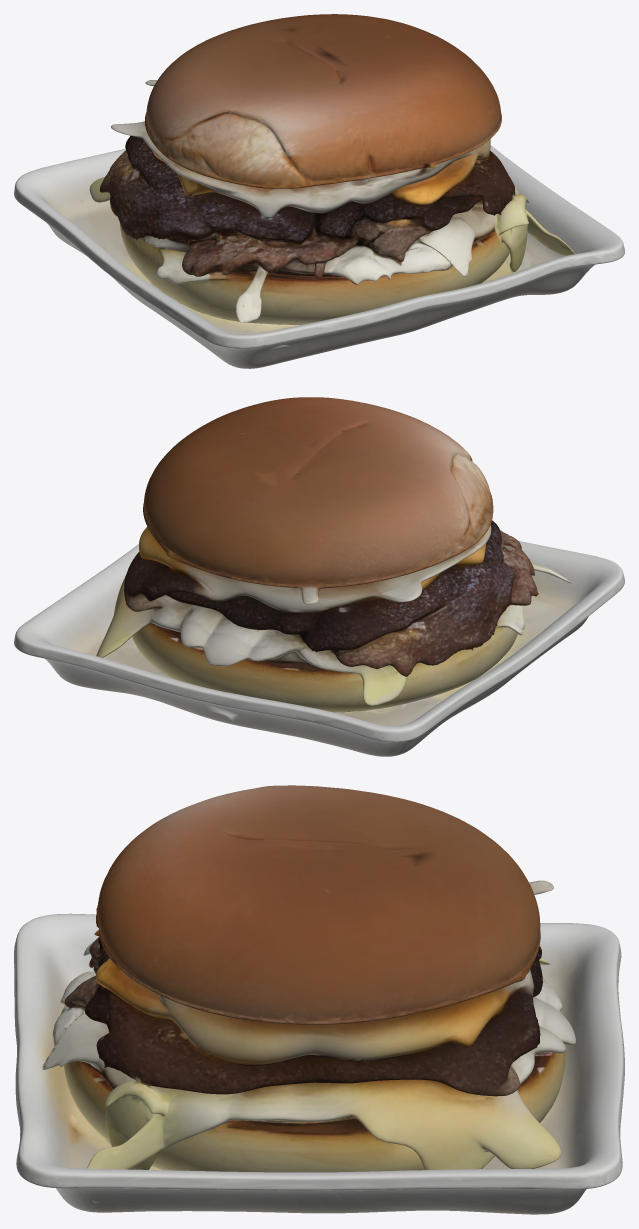
File: burger.glb
3 views of the same model, one above another, from view 1: azimuth 30°, elevation 25°; view 2: azimuth 150°, elevation 25°; view 3: azimuth 270°, elevation 25° (orthographic). The views are drawn at different scales.
Parts seen in each view (by area): view 1: node_0; view 2: node_0; view 3: node_0.
Boxes of the visible parts, left/top/right/bottom form: node_0: left=14, top=14, right=624, bottom=368; node_0: left=14, top=397, right=624, bottom=756; node_0: left=14, top=785, right=624, bottom=1214.
Bounding box in the file's own units: 0.8778 × 0.4353 × 0.8656.
1 material, 1 textured.
